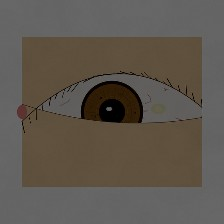pinguecula_lesion: (143, 97, 173, 121)
